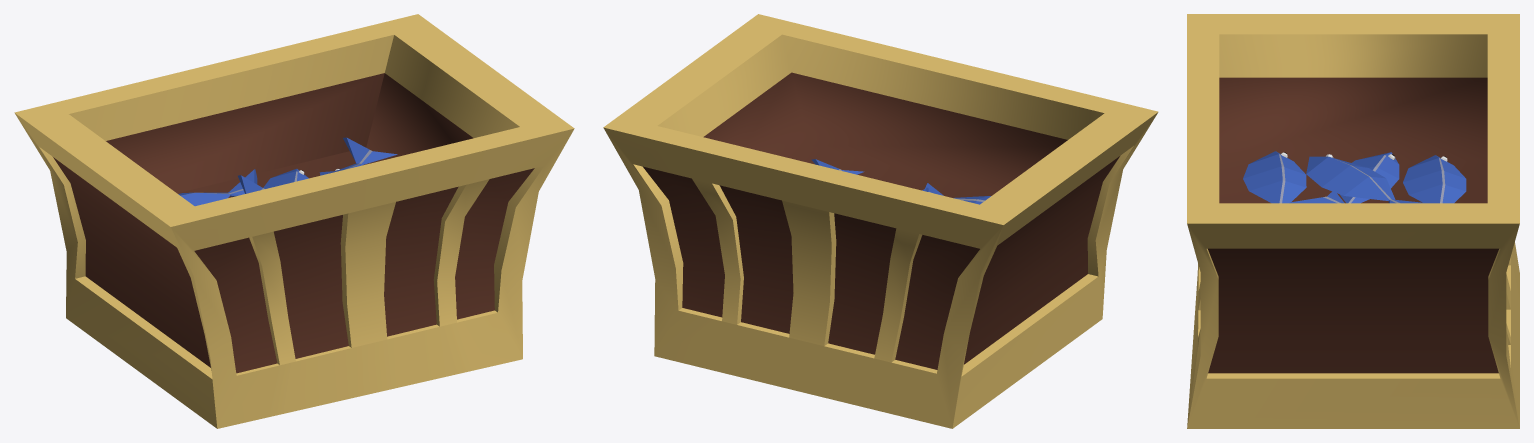
File: gold_chest_down.fbx
3 renders of one model, left to right at view 1: azimuth 30°, elevation 25°; view 2: azimuth 150°, elevation 25°; view 3: azimuth 270°, elevation 25°, orthographic. The views are drawn at different scales.
Parts seen in each view (by area): view 1: gold_chest_down; view 2: gold_chest_down; view 3: gold_chest_down.
Part boxes in pixels (<box>): gold_chest_down: <box>14,14,574,428</box>; gold_chest_down: <box>603,14,1158,428</box>; gold_chest_down: <box>1187,14,1519,428</box>.
Bounding box in the file's own units: 7.97 × 4.11 × 5.35.
